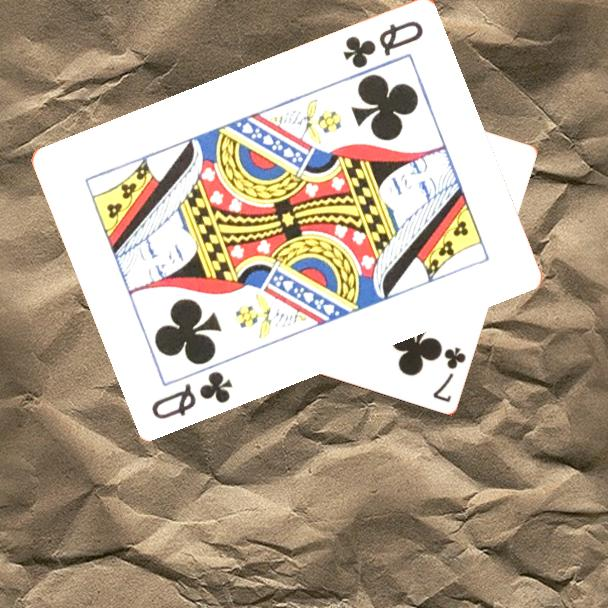c07: (429, 343, 469, 405)
c12: (339, 16, 427, 71), (148, 367, 236, 422)
